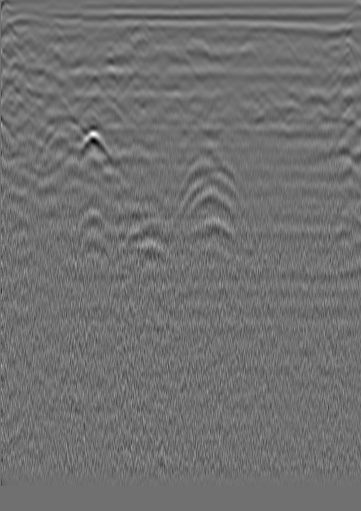가스: (68, 203, 113, 252)
상수: (309, 44, 329, 64)
오수: (16, 22, 47, 48)
우수: (183, 35, 203, 55)
